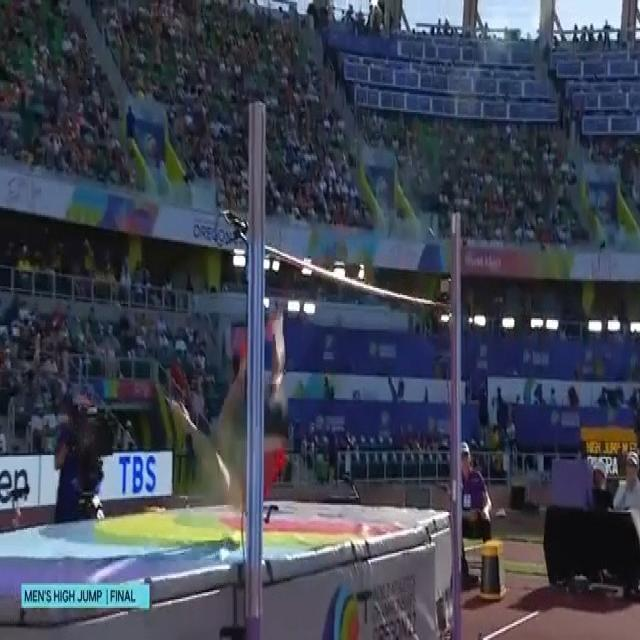land: (166, 301, 290, 511)
